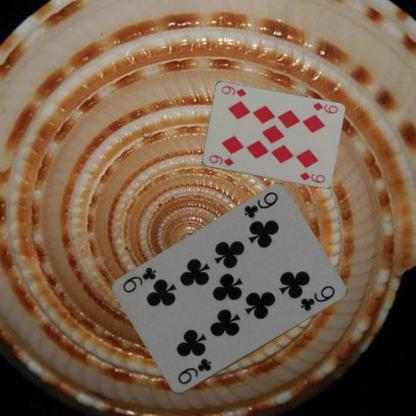9c: (241, 189, 280, 220), (172, 356, 212, 386)
9d: (206, 152, 235, 168), (310, 100, 339, 115)
